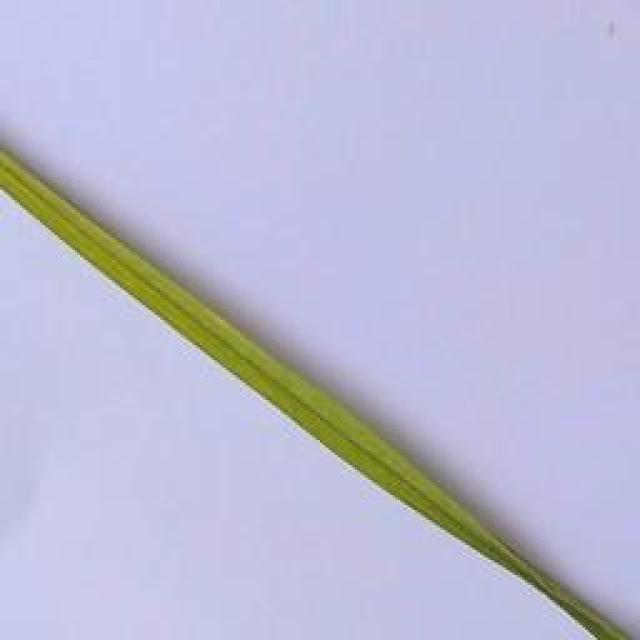Healthy-Plant: (0, 145, 634, 640)
